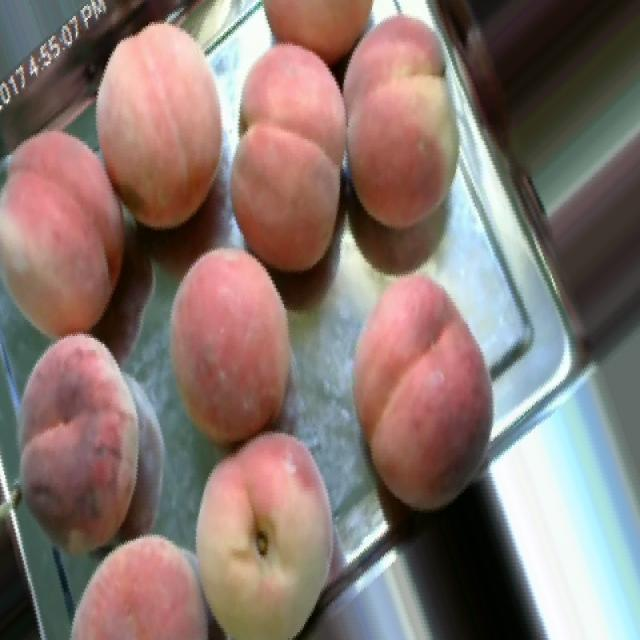Fruit: (331, 252, 516, 525), (0, 311, 185, 580), (62, 0, 240, 252), (160, 411, 353, 640), (139, 225, 316, 471), (0, 107, 160, 360), (342, 0, 500, 250), (217, 20, 352, 294), (45, 513, 208, 640), (252, 0, 399, 70)
